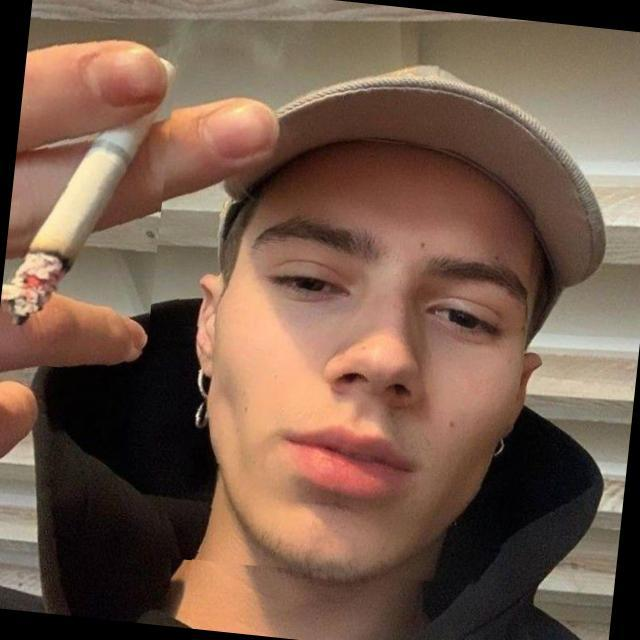cigarette: (0, 8, 180, 376)
